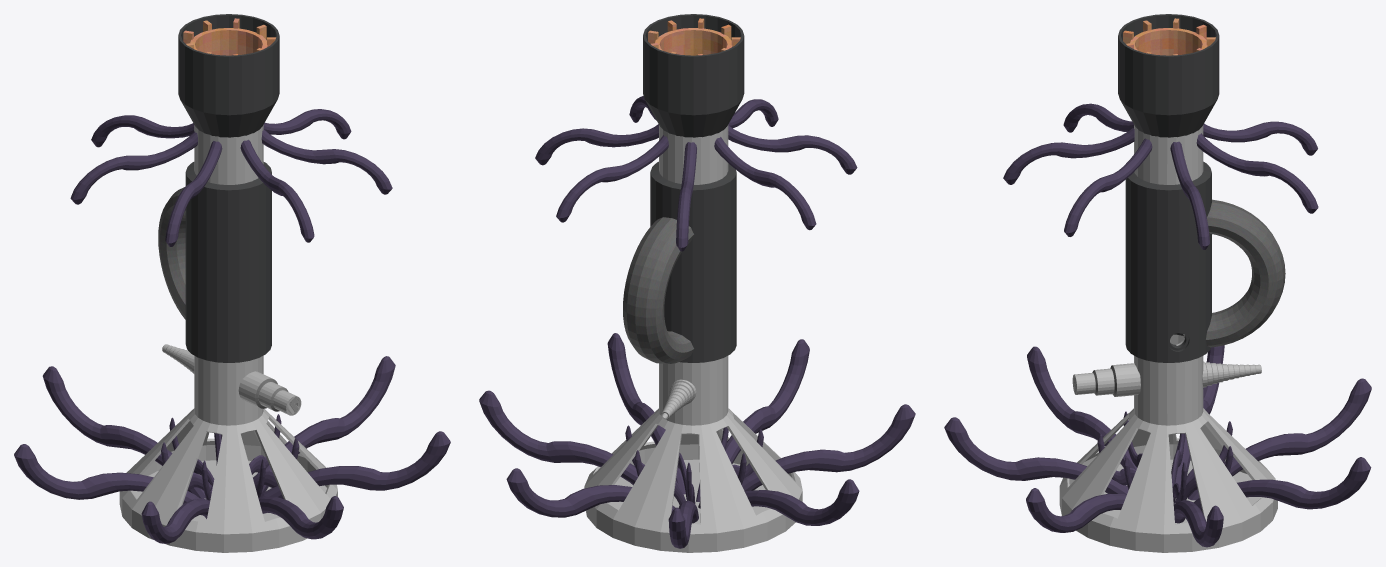
The model's file is Bunsen burner.glb.
The picture shows the model from 3 angles, left to right: view 1: azimuth 30°, elevation 25°; view 2: azimuth 150°, elevation 25°; view 3: azimuth 270°, elevation 25°; orthographic projection.
Visible parts, largest first — view 1: Cirkel, Cirkel.005, Torus.001, Torus.002, Cirkel.001, Kubus, Torus, Torus.003, Cirkel.004; view 2: Cirkel, Torus.001, Cirkel.005, Torus.002, Cirkel.001, Torus, Kubus, Torus.003, Cirkel.002; view 3: Cirkel, Torus.001, Cirkel.005, Torus.002, Cirkel.001, Torus, Kubus, Torus.003, Cirkel.004, Cirkel.002.
Boxes of the visible parts, box(x1,y1,x2,y2) form: Cirkel: box(119, 125, 337, 552); Cirkel.005: box(185, 162, 271, 362); Torus.001: box(14, 356, 450, 543); Torus.002: box(70, 109, 392, 246); Cirkel.001: box(178, 14, 279, 137); Kubus: box(183, 18, 275, 55); Torus: box(158, 187, 185, 319); Torus.003: box(161, 414, 299, 500); Cirkel.004: box(238, 371, 301, 415); Cirkel: box(584, 125, 802, 552); Torus.001: box(479, 333, 915, 548); Cirkel.005: box(650, 161, 736, 362); Torus.002: box(535, 96, 857, 251); Cirkel.001: box(643, 14, 744, 137); Torus: box(623, 217, 693, 363); Kubus: box(648, 18, 740, 55); Torus.003: box(625, 425, 763, 508); Cirkel.002: box(661, 379, 696, 419); Cirkel: box(1059, 125, 1277, 552); Torus.001: box(944, 345, 1371, 547); Cirkel.005: box(1125, 161, 1211, 362); Torus.002: box(1003, 103, 1318, 249); Cirkel.001: box(1118, 14, 1219, 137); Torus: box(1206, 199, 1285, 347); Kubus: box(1123, 18, 1215, 55); Torus.003: box(1097, 411, 1233, 504); Cirkel.004: box(1072, 363, 1140, 396); Cirkel.002: box(1202, 361, 1261, 387).
Bounding box in the file's own units: 20.56 × 24.42 × 20.08.
8 materials, 4 textured.
